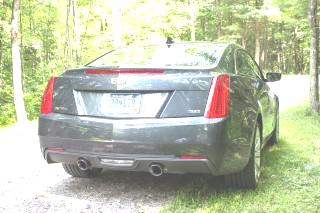cadillac: (108, 74, 128, 89)
